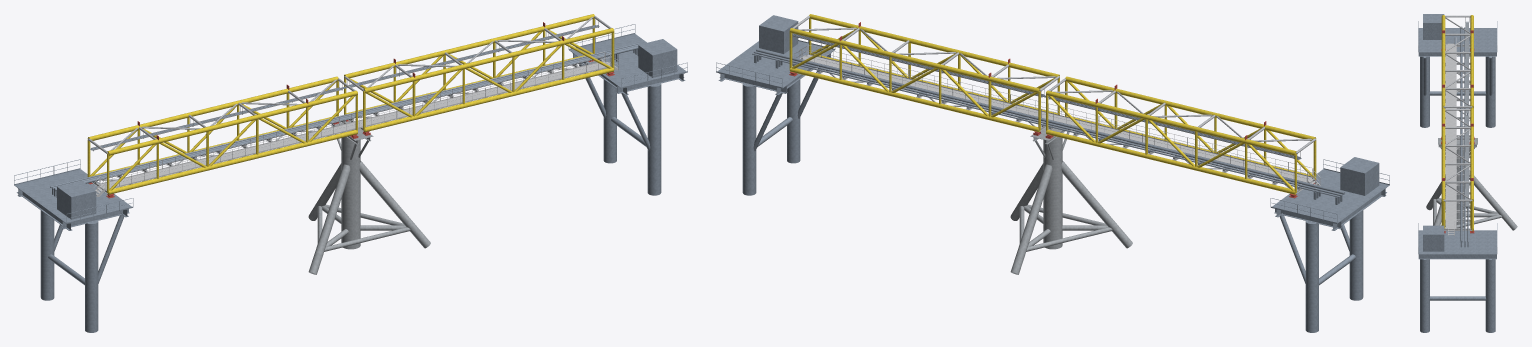
The model's file is platform-link-bridges.glb.
3 renders of one model, left to right at view 1: azimuth 30°, elevation 25°; view 2: azimuth 150°, elevation 25°; view 3: azimuth 270°, elevation 25°, orthographic. The views are drawn at different scales.
Visible parts, largest first — view 1: PlatformDecks(context), TrussChords, SupportTripod, Walkway&Handrails, Verticals&Diagonals, Pipes&Cables(context), CrossFrames&PlanBracing, PipeSupports&CableTrays; view 2: PlatformDecks(context), TrussChords, SupportTripod, Verticals&Diagonals, Walkway&Handrails, Pipes&Cables(context), CrossFrames&PlanBracing, PipeSupports&CableTrays; view 3: PlatformDecks(context), Walkway&Handrails, CrossFrames&PlanBracing, TrussChords, SupportTripod, Pipes&Cables(context), PipeSupports&CableTrays, Verticals&Diagonals, LiftingPadeyes.
Boxes of the visible parts, x1=… form: PlatformDecks(context): x1=14, y1=24, x2=687, y2=332; TrussChords: x1=87, y1=14, x2=614, y2=194; SupportTripod: x1=308, y1=121, x2=430, y2=274; Walkway&Handrails: x1=92, y1=51, x2=618, y2=196; Verticals&Diagonals: x1=87, y1=18, x2=614, y2=192; Pipes&Cables(context): x1=50, y1=25, x2=639, y2=191; CrossFrames&PlanBracing: x1=88, y1=16, x2=611, y2=193; PipeSupports&CableTrays: x1=91, y1=19, x2=602, y2=182; PlatformDecks(context): x1=716, y1=15, x2=1389, y2=332; TrussChords: x1=789, y1=14, x2=1316, y2=194; SupportTripod: x1=1010, y1=123, x2=1132, y2=274; Verticals&Diagonals: x1=789, y1=18, x2=1316, y2=192; Walkway&Handrails: x1=794, y1=45, x2=1320, y2=190; Pipes&Cables(context): x1=752, y1=34, x2=1345, y2=197; CrossFrames&PlanBracing: x1=792, y1=16, x2=1315, y2=193; PipeSupports&CableTrays: x1=792, y1=34, x2=1301, y2=189; PlatformDecks(context): x1=1418, y1=14, x2=1497, y2=332; Walkway&Handrails: x1=1445, y1=37, x2=1456, y2=235; CrossFrames&PlanBracing: x1=1443, y1=15, x2=1472, y2=230; TrussChords: x1=1441, y1=15, x2=1473, y2=231; SupportTripod: x1=1426, y1=138, x2=1517, y2=230; Pipes&Cables(context): x1=1460, y1=21, x2=1468, y2=242; PipeSupports&CableTrays: x1=1465, y1=17, x2=1469, y2=206; Verticals&Diagonals: x1=1442, y1=107, x2=1472, y2=229; LiftingPadeyes: x1=1442, y1=30, x2=1473, y2=181.
Size of the model in its own units: 74.94 by 19.42 by 13.88.
6 materials, 6 textured.
